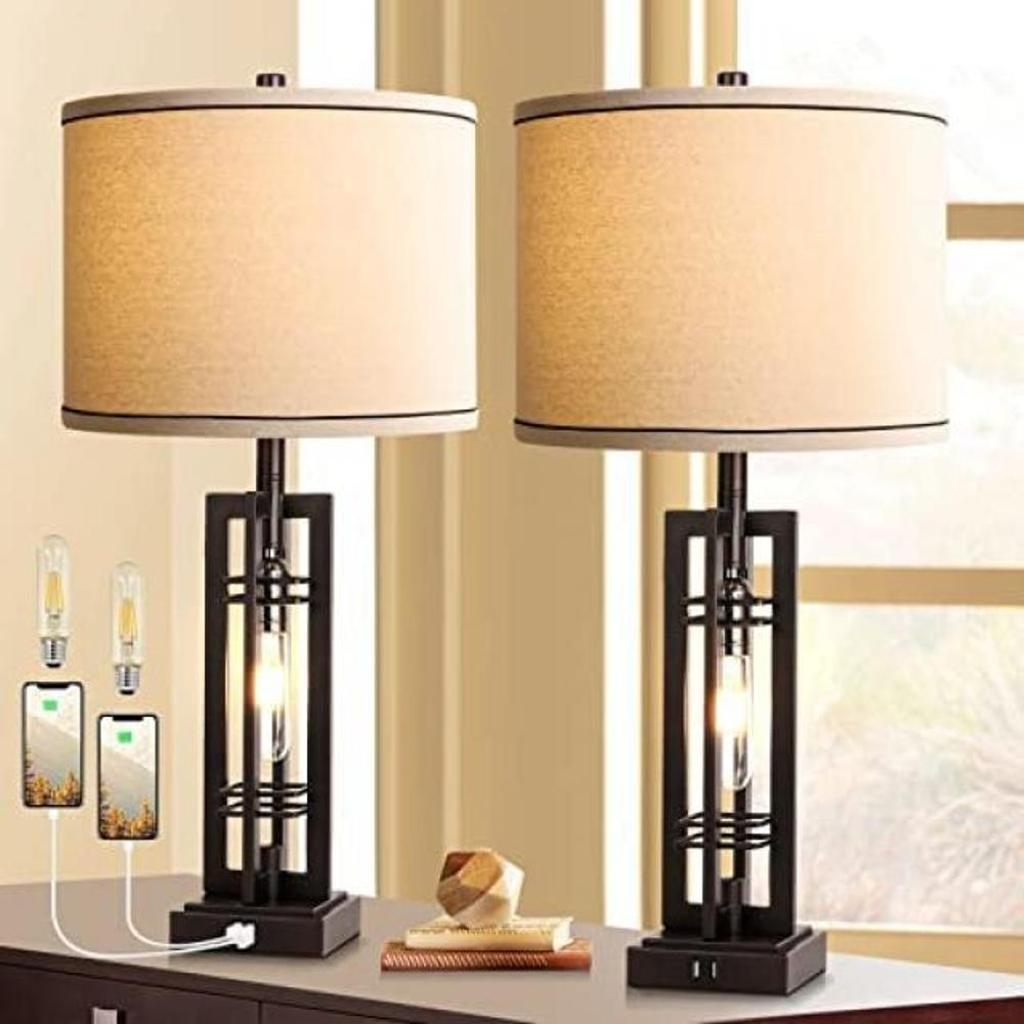shelf: (511, 46, 967, 986), (46, 49, 486, 967)
